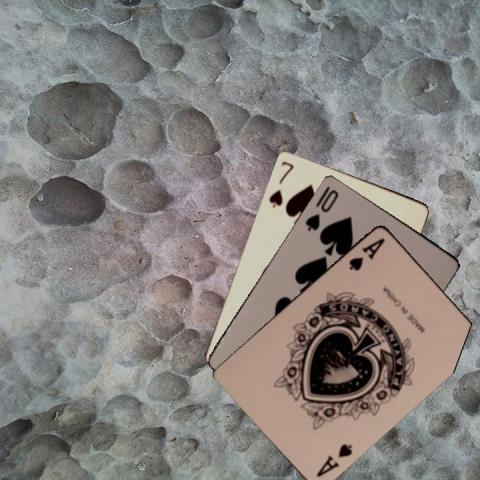10s: (302, 186, 340, 232)
7s: (266, 157, 296, 209)
As: (313, 440, 354, 478), (345, 235, 386, 272)
